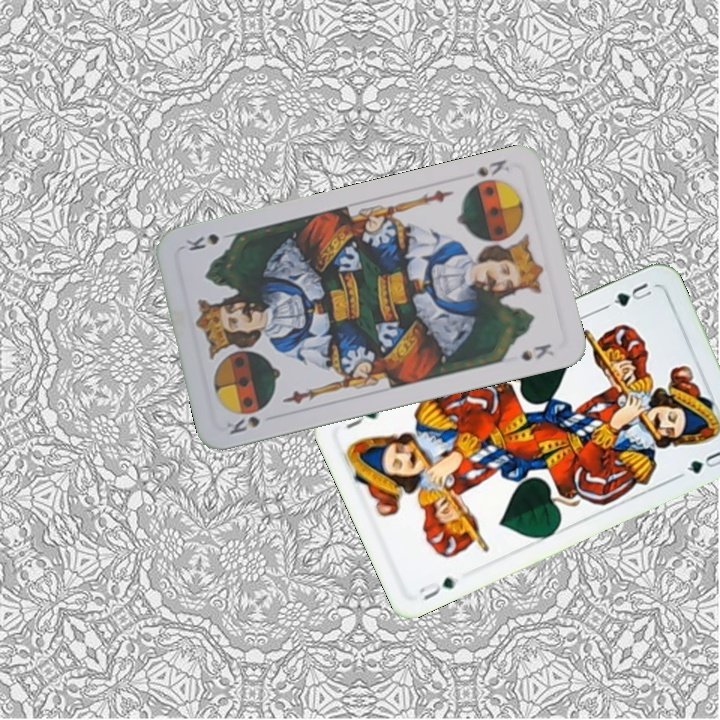GU: (600, 278, 655, 311), (415, 572, 462, 603)
SK: (222, 404, 270, 437), (472, 155, 512, 180)
